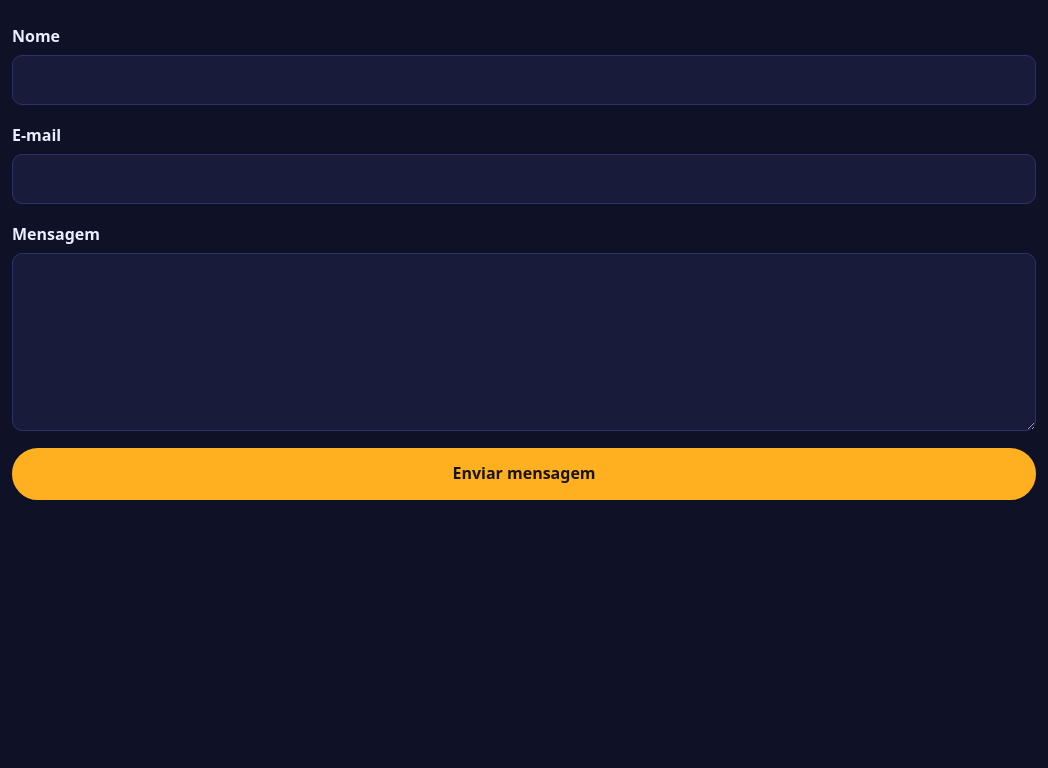
Scenario: ContactForm › mostra mensagens de erro por campo e não envia dados inválidos
Type "A" into the field labelled "Nome" at (524,80), box top-left (12, 55), bottom-right (1036, 105)
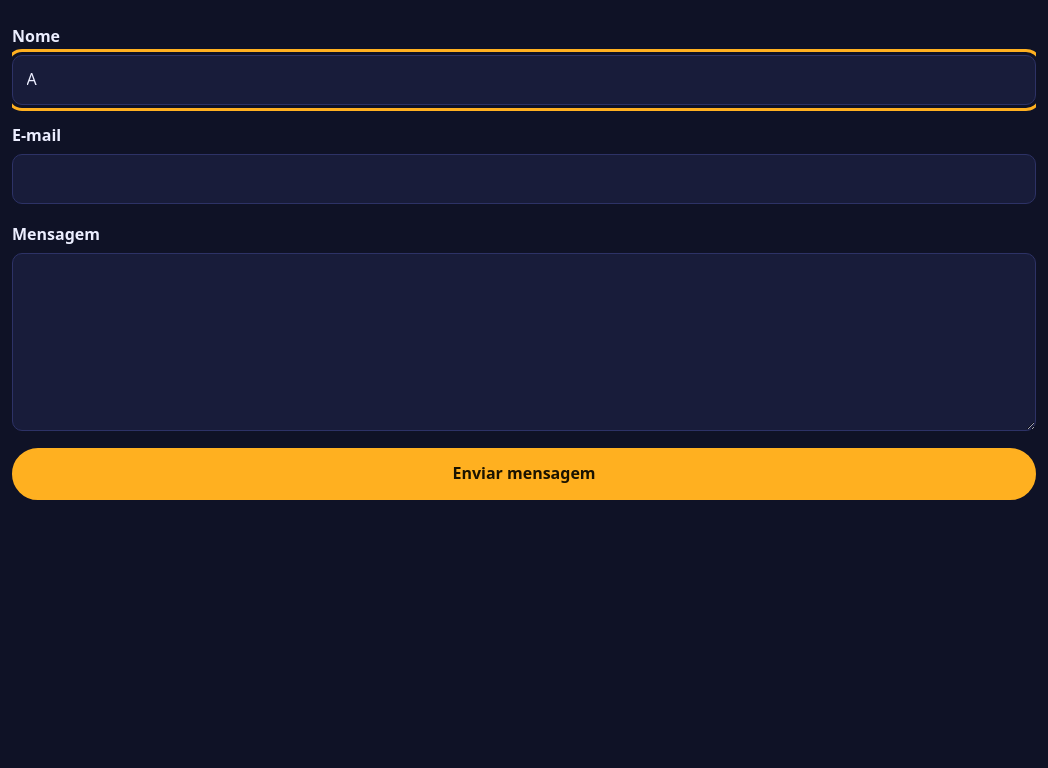
Type "sem-arroba" into the field labelled "E-mail" at (524,179), box top-left (12, 154), bottom-right (1036, 204)
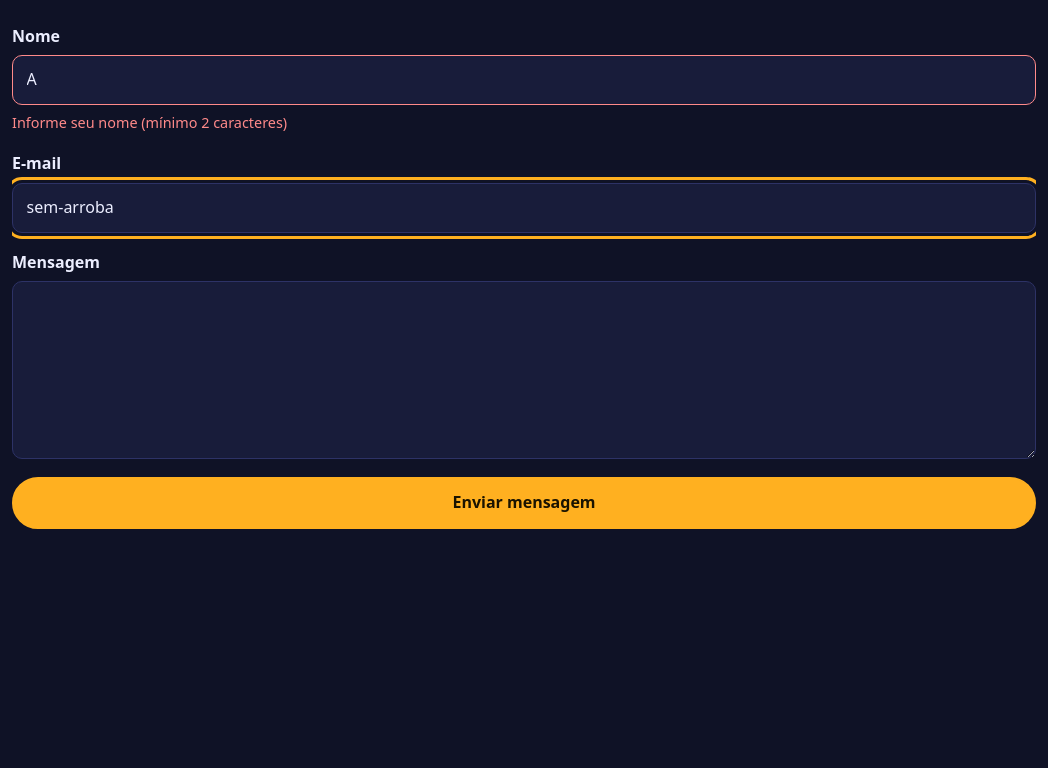
Type "curta" into the text box labelled "Mensagem" at (524,370), box top-left (12, 281), bottom-right (1036, 459)
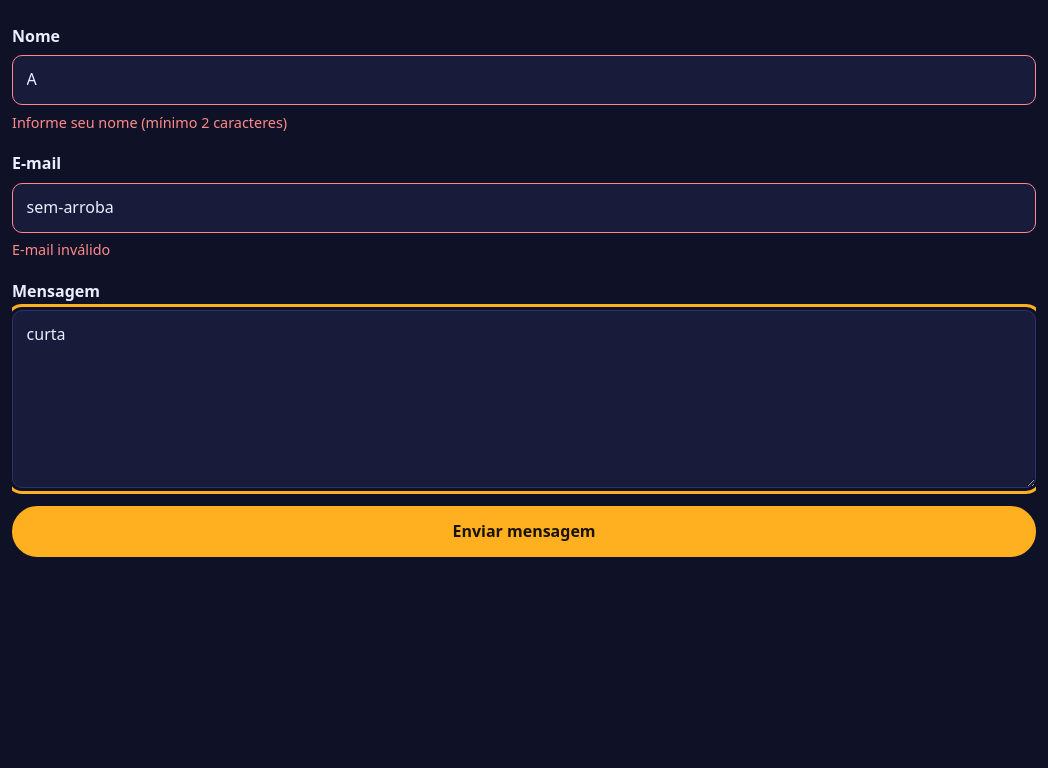
Click the button "Enviar mensagem" at (524,532), box top-left (12, 506), bottom-right (1036, 558)
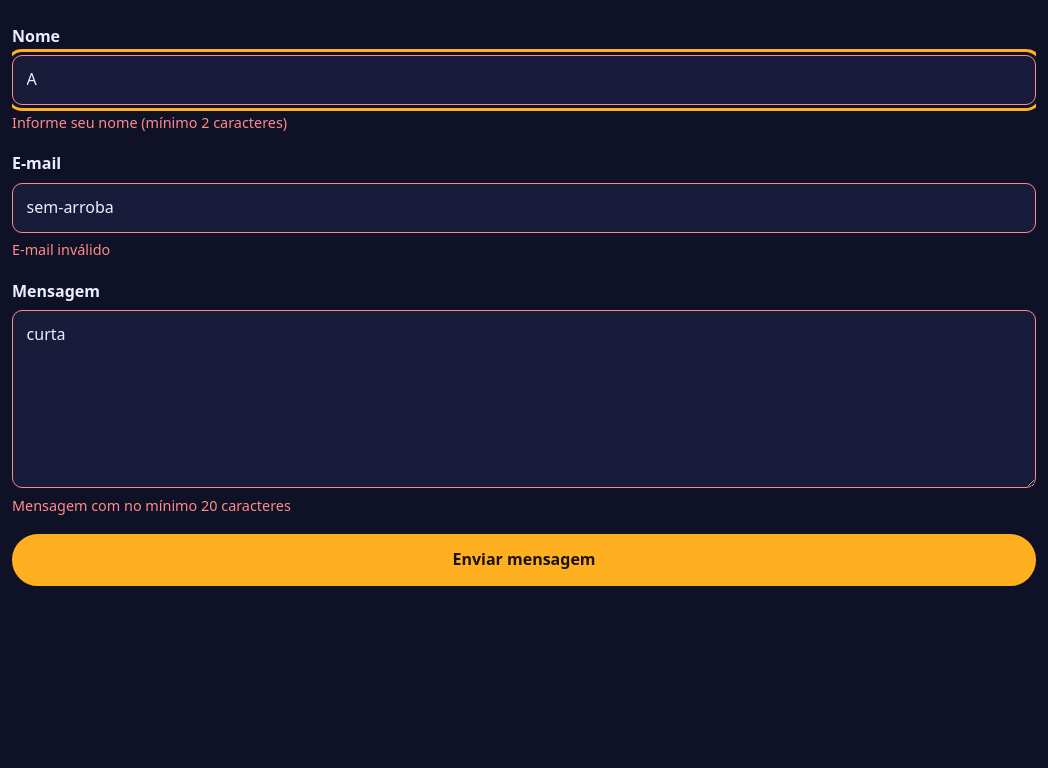
Now the text "Informe seu nome (mínimo 2 caracteres)" is shown, box top-left (12, 113), bottom-right (287, 132)
Now the text "E-mail inválido" is shown, box top-left (12, 240), bottom-right (110, 259)
Now the text "Mensagem com no mínimo 20 caracteres" is shown, box top-left (12, 496), bottom-right (291, 514)
